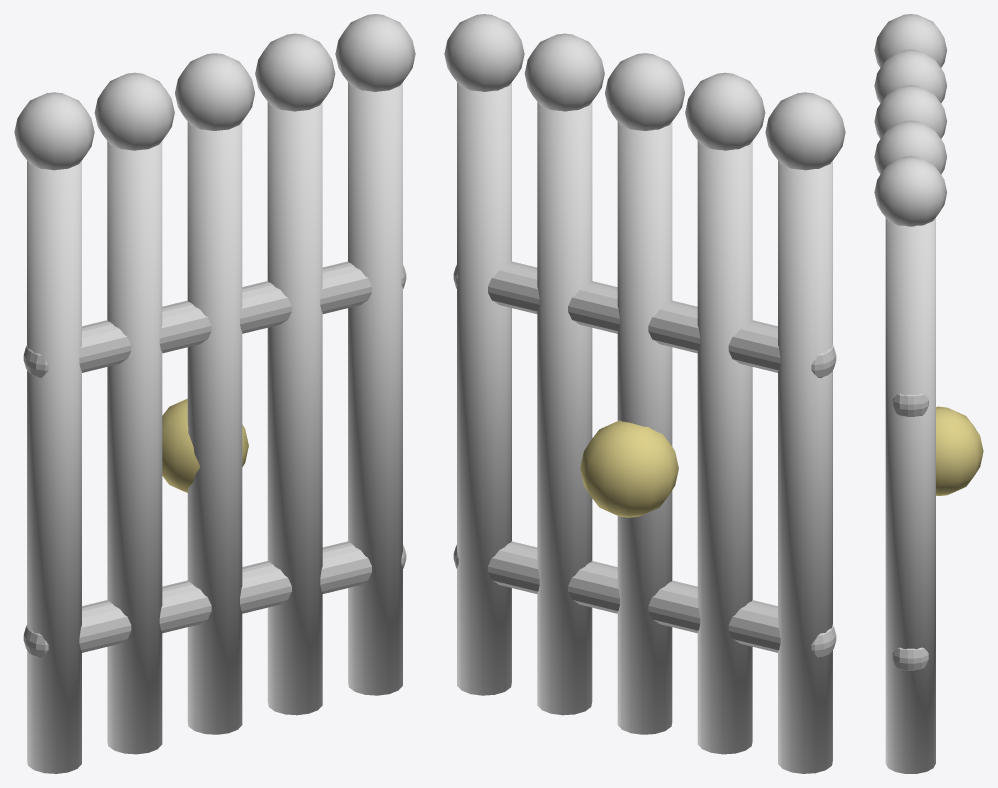
File: gym_door_bars_lite.glb
3 views of the same model, side by side, from view 1: azimuth 30°, elevation 25°; view 2: azimuth 150°, elevation 25°; view 3: azimuth 270°, elevation 25° (orthographic). The views are drawn at different scales.
Parts seen in each view (by area): view 1: Cylinder; view 2: Cylinder; view 3: Cylinder.
Part boxes in pixels (x1=…): Cylinder: x1=14, y1=14, x2=415, y2=773; Cylinder: x1=444, y1=14, x2=845, y2=773; Cylinder: x1=874, y1=14, x2=983, y2=773.
Size of the model in its own units: 1.46 by 2.38 by 0.39.
